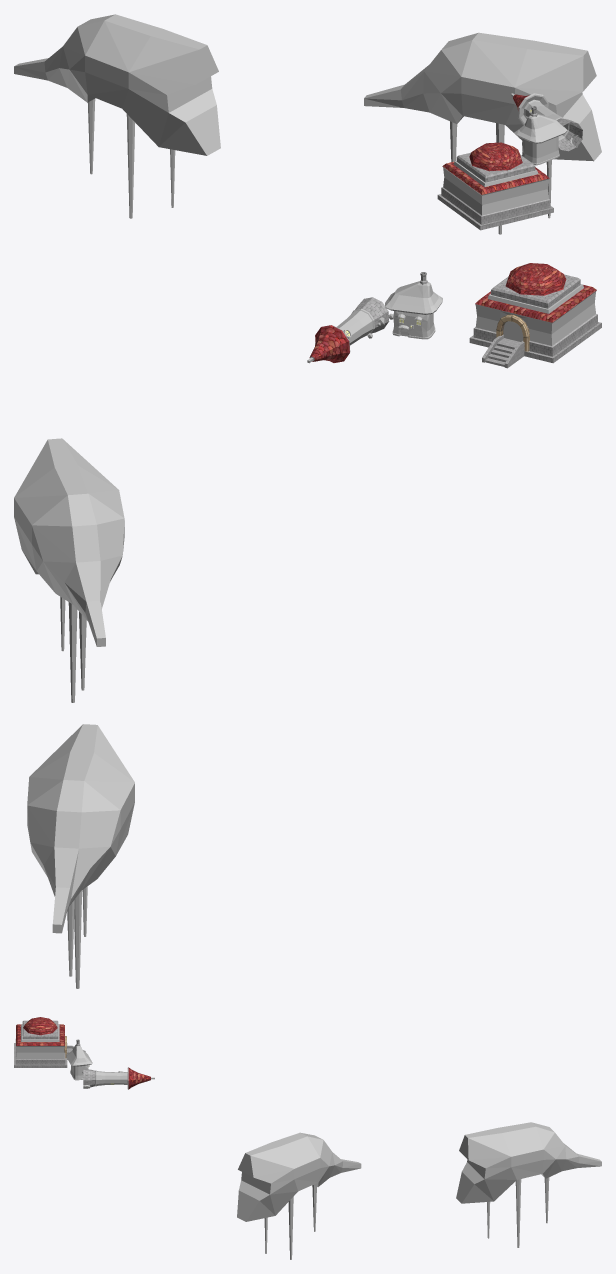
The model's file is PeachCastleTownAfterAttack_bake.dae.
The picture shows the model from 3 angles, top to bottom: view 1: azimuth 30°, elevation 25°; view 2: azimuth 150°, elevation 25°; view 3: azimuth 270°, elevation 25°; orthographic projection. The views are drawn at different scales.
Visible parts, largest first — view 1: m1, m4, m2, m3, m5; view 2: m1, m2, m4, m3, m5; view 3: m1, m4, m2, m3.
Part boxes in pixels (x1,y1,x2,y2): m1: (14, 14, 601, 234); m4: (443, 101, 568, 215); m2: (437, 106, 582, 230); m3: (442, 94, 549, 194); m5: (514, 115, 567, 142); m1: (14, 284, 596, 988); m2: (355, 272, 601, 368); m4: (336, 281, 595, 345); m3: (309, 263, 596, 362); m5: (385, 281, 442, 328); m1: (16, 1024, 601, 1259); m4: (16, 1046, 126, 1085); m2: (14, 1020, 95, 1087); m3: (16, 1017, 150, 1089).
Size of the model in its own units: 6990 by 7738 by 18522.
